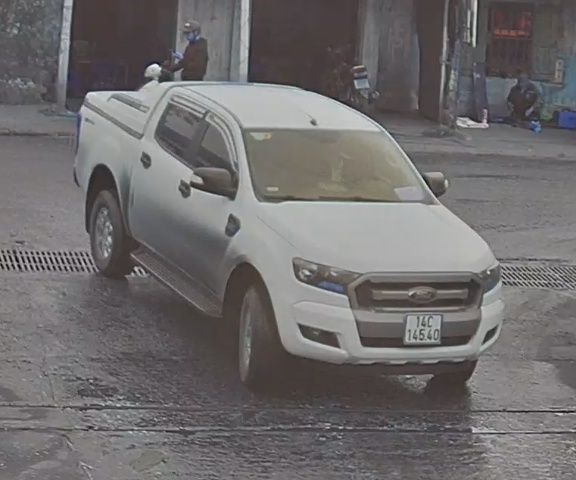vehicle plate: (397, 309, 449, 346)
